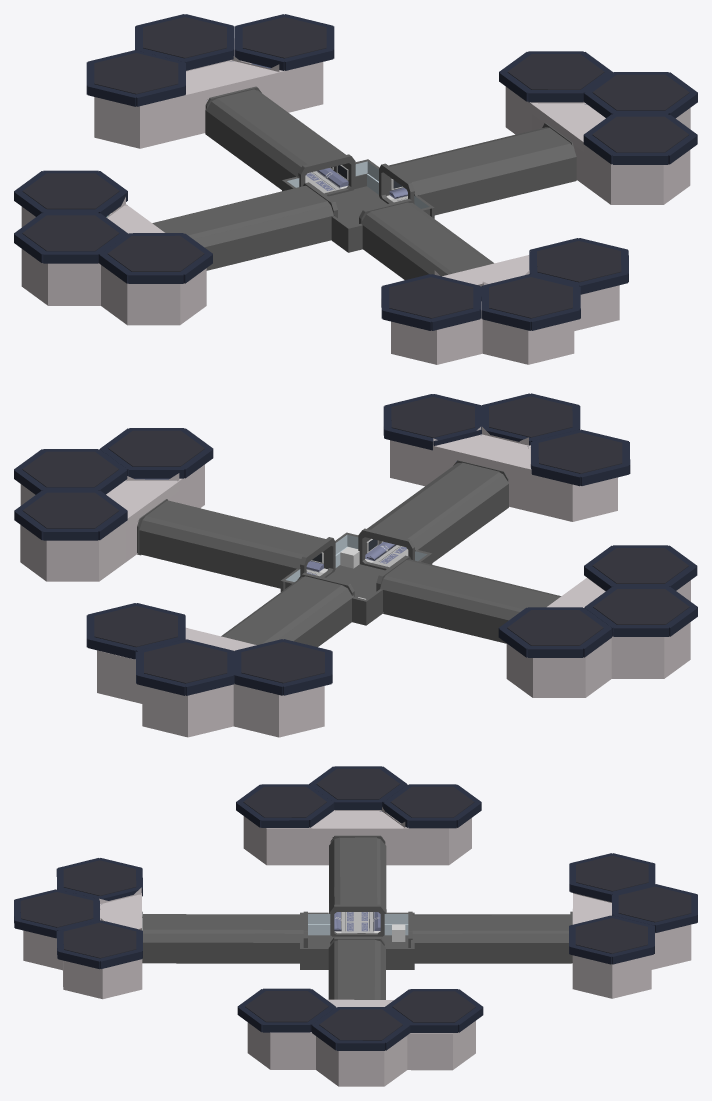
Rendered from BunkerLobby.glb.
3 views of the same model, one above another, from view 1: azimuth 30°, elevation 25°; view 2: azimuth 150°, elevation 25°; view 3: azimuth 270°, elevation 25° (orthographic). The views are drawn at different scales.
Parts seen in each view (by area): view 1: Cube.001, base, left_bay_hexagonal_ceiling_panel.003, left_bay_hexagonal_ceiling_panel.001, left_bay_hexagonal_ceiling_panel.005, left_bay_hexagonal_ceiling_panel.008; view 2: Cube.001, base, left_bay_hexagonal_ceiling_panel.005, left_bay_hexagonal_ceiling_panel.008, left_bay_hexagonal_ceiling_panel.001, left_bay_hexagonal_ceiling_panel.003; view 3: Cube.001, base, left_bay_hexagonal_ceiling_panel.001, left_bay_hexagonal_ceiling_panel.008, left_bay_hexagonal_ceiling_panel.005, left_bay_hexagonal_ceiling_panel.003.
Boxes of the visible parts, x1,y1,x2,y2 form: Cube.001: (21,38,690,364); base: (152,89,576,279); left_bay_hexagonal_ceiling_panel.003: (381,238,628,330); left_bay_hexagonal_ceiling_panel.001: (499,51,697,164); left_bay_hexagonal_ceiling_panel.005: (86,14,334,106); left_bay_hexagonal_ceiling_panel.008: (14,170,212,283); Cube.001: (20,426,690,737); base: (139,462,561,647); left_bay_hexagonal_ceiling_panel.005: (86,603,332,695); left_bay_hexagonal_ceiling_panel.008: (498,545,697,657); left_bay_hexagonal_ceiling_panel.001: (14,428,213,540); left_bay_hexagonal_ceiling_panel.003: (383,393,630,486); Cube.001: (23,807,691,1086); base: (142,837,571,999); left_bay_hexagonal_ceiling_panel.001: (237,988,483,1050); left_bay_hexagonal_ceiling_panel.008: (236,766,481,828); left_bay_hexagonal_ceiling_panel.005: (569,853,697,964); left_bay_hexagonal_ceiling_panel.003: (14,858,142,969).
Bounding box in the file's own units: 98.27 × 8.18 × 102.
